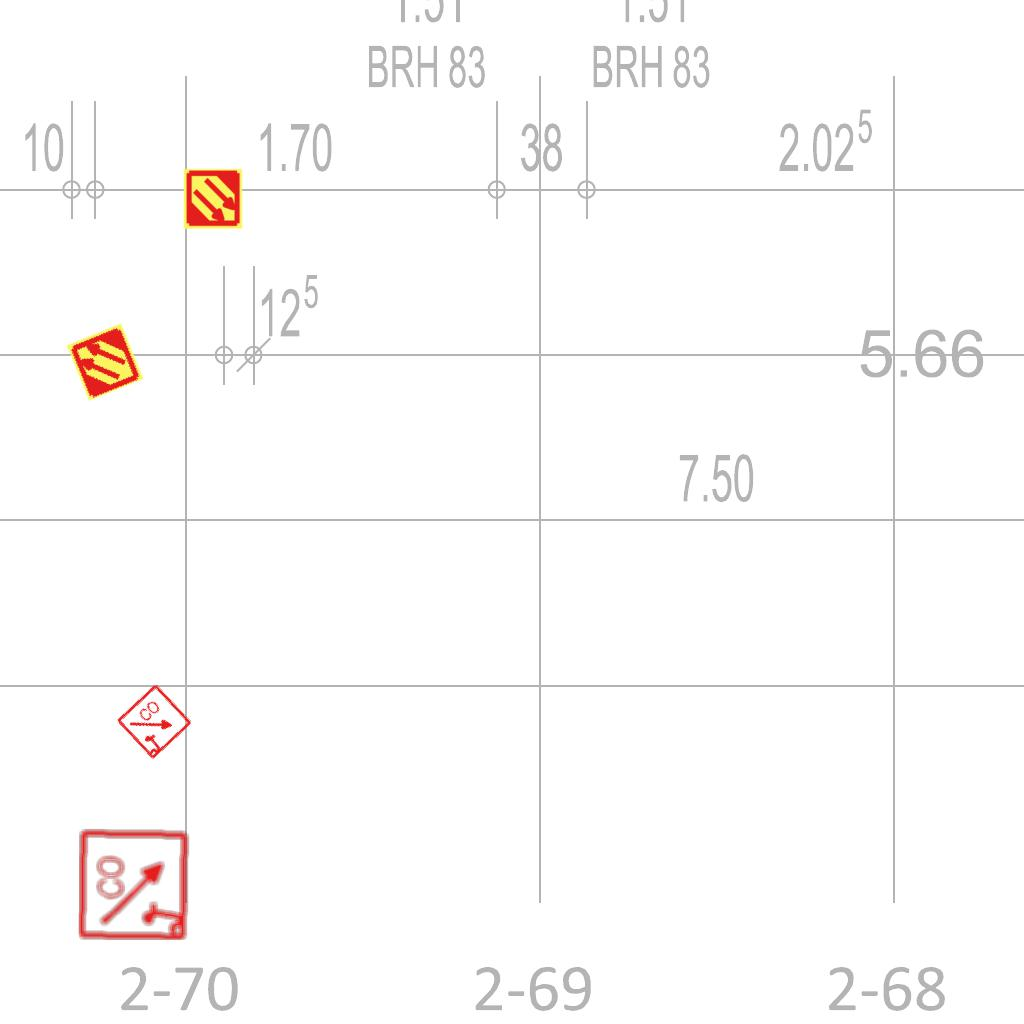ASR_Ansaugrauchmelder: (64, 321, 146, 403), (182, 168, 244, 230)
ROA_Rauchmelder_optisch_mit_Signalgeber_(Sockelsirene): (77, 827, 192, 942), (115, 682, 195, 762)
